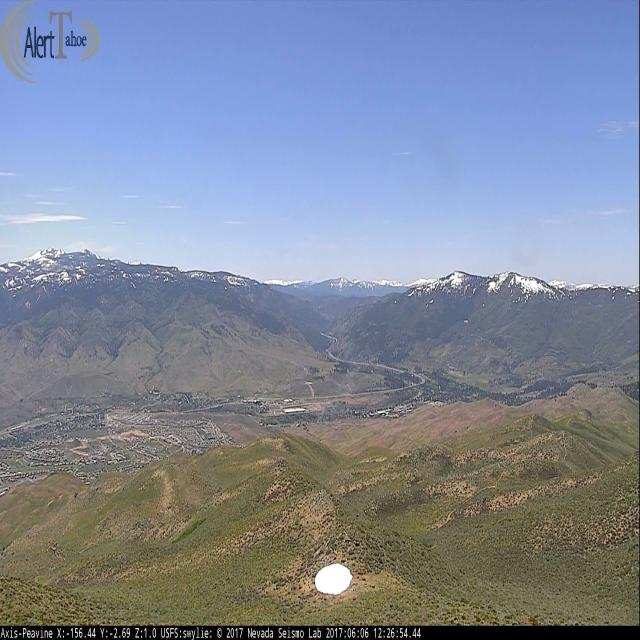smoke: (316, 402, 328, 422)
